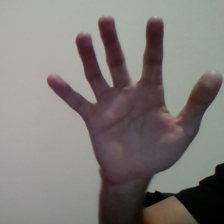left: (45, 10, 224, 178)
